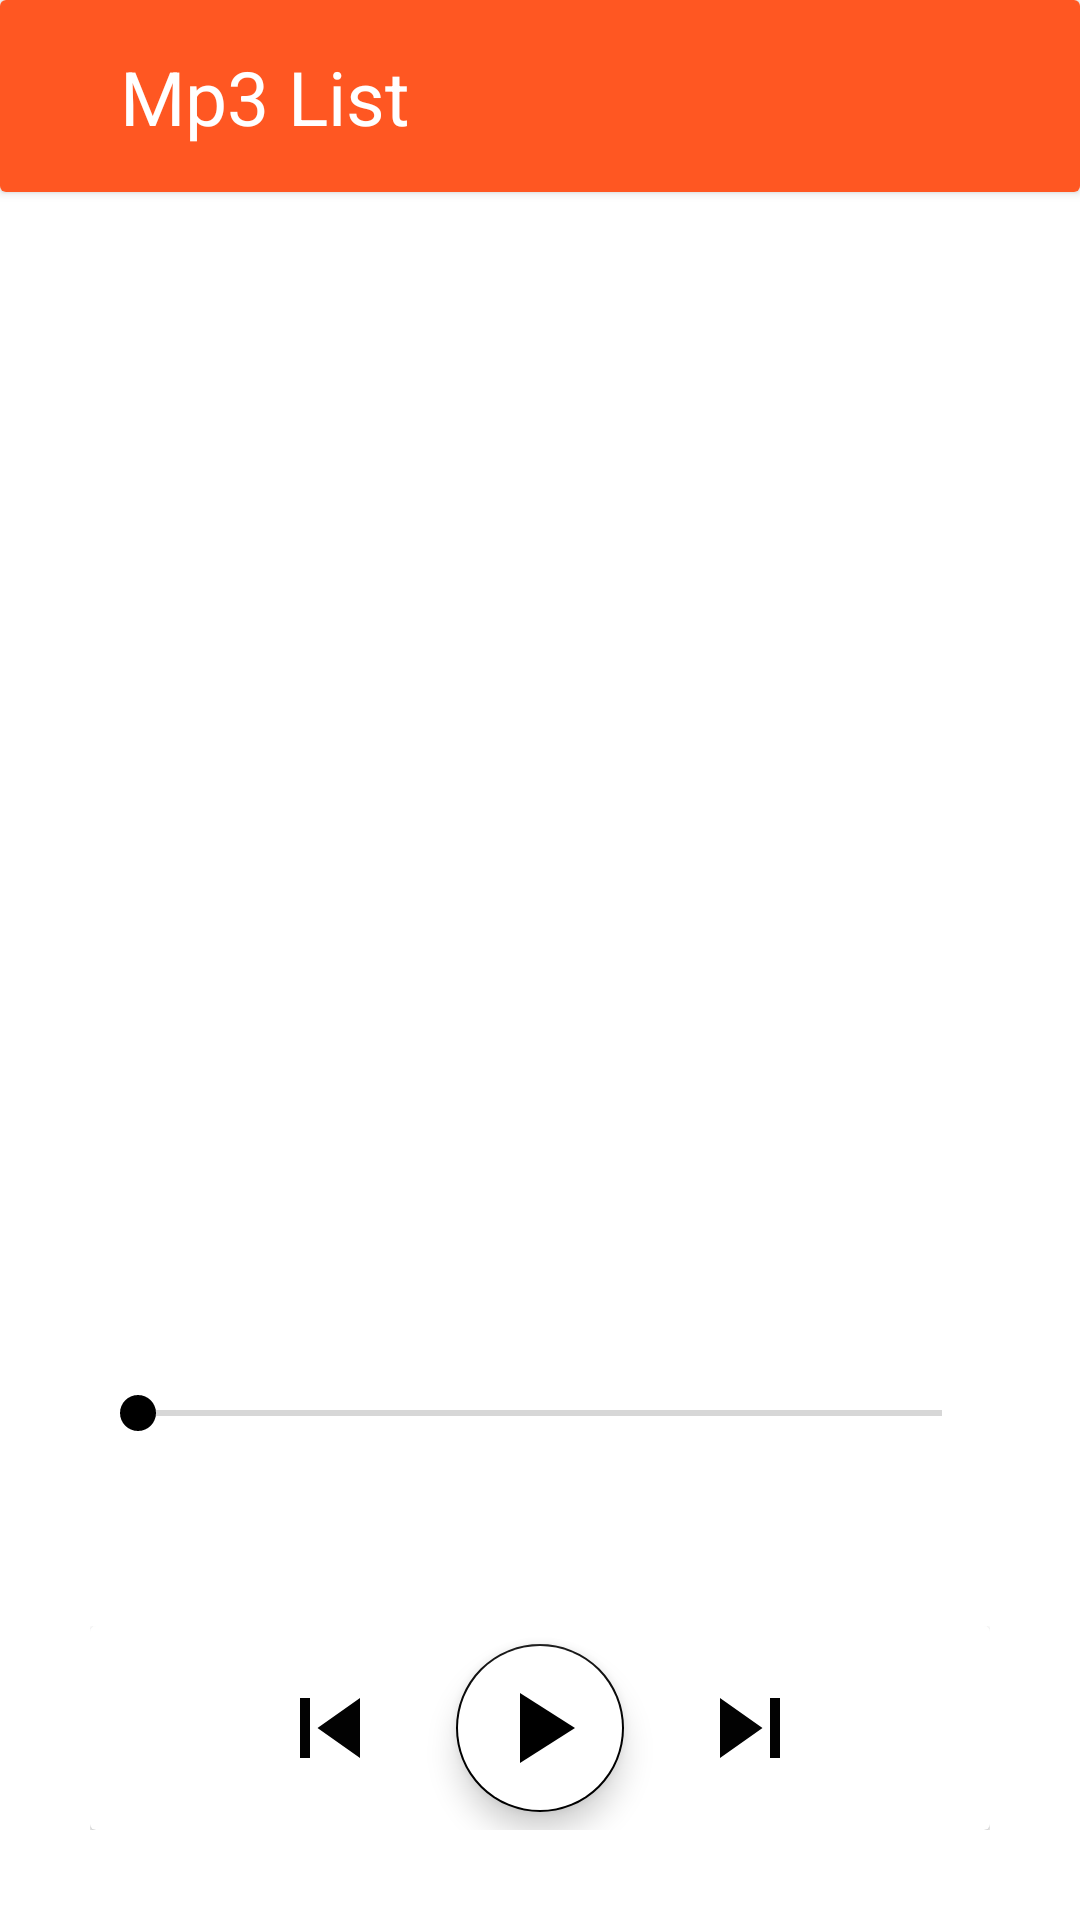

Icons on this 1080×1920 Android screen, each with its box as [x1, y1, x2, y2]:
left: [300, 1698, 360, 1758]
play: [456, 1644, 624, 1812]
right: [720, 1698, 780, 1758]
